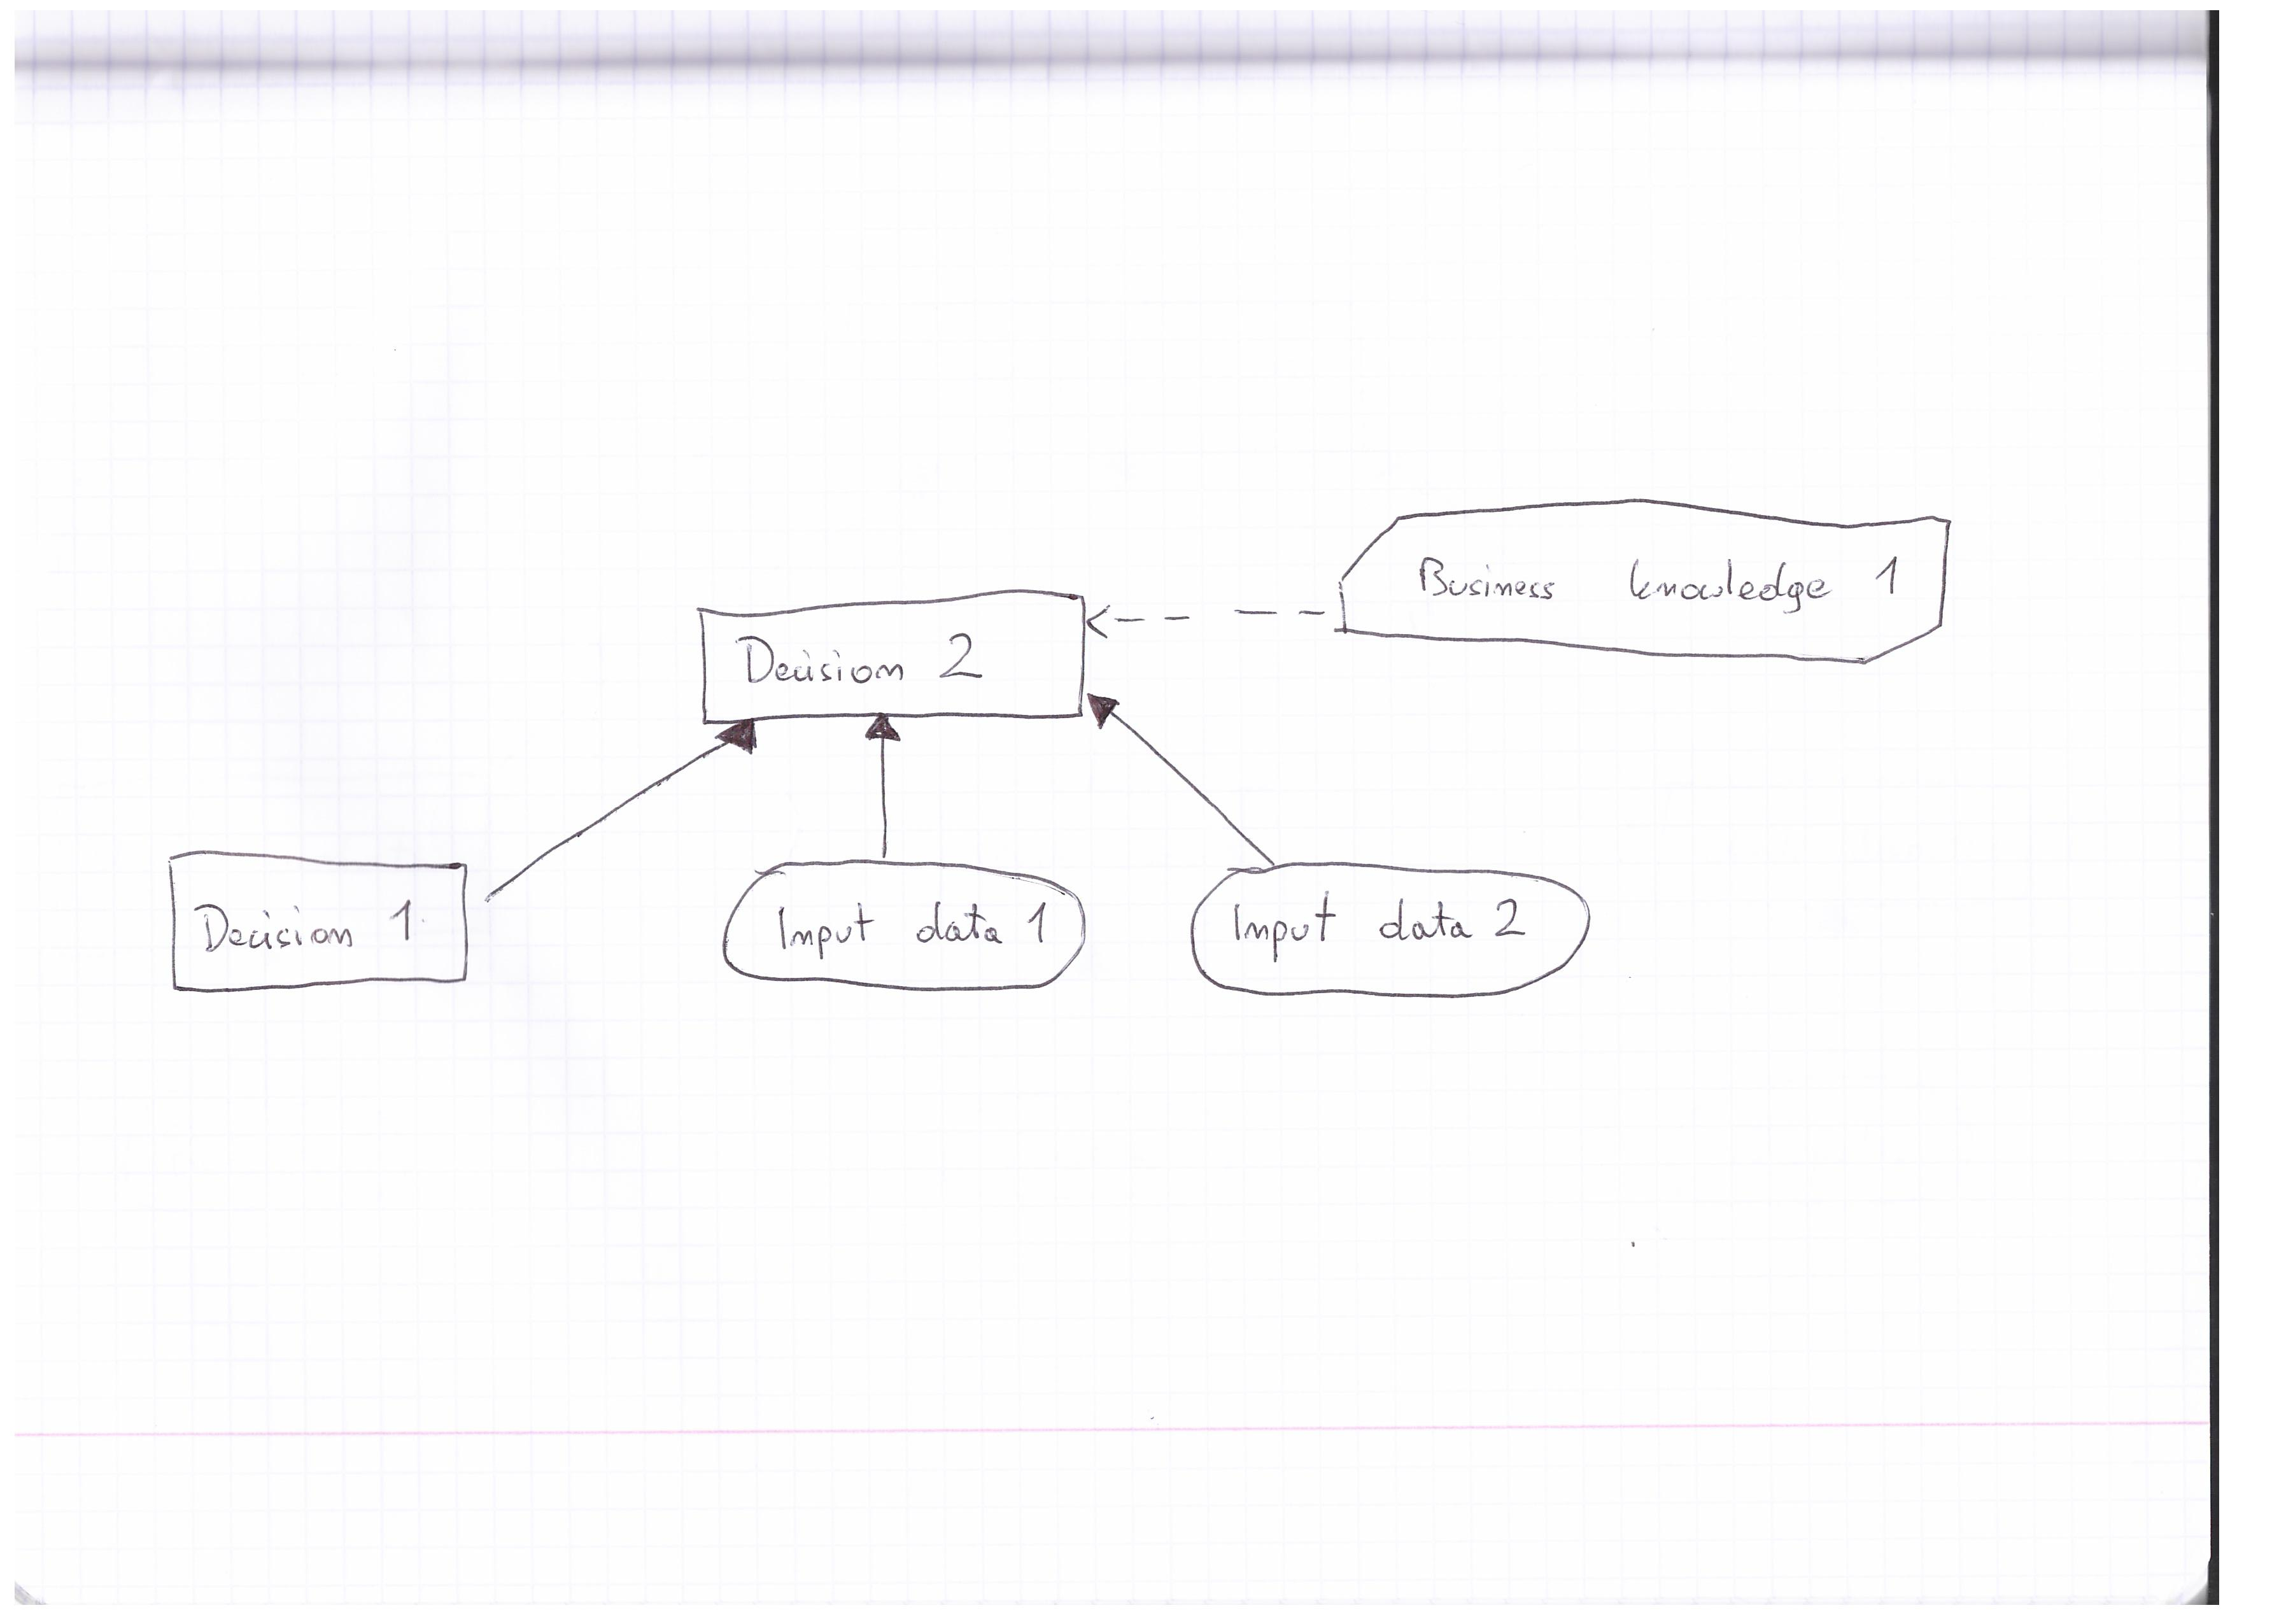arrow_information_requirement: (480, 715, 766, 916), (1086, 682, 1284, 866), (857, 708, 905, 861)
arrow_knowledge_requirement: (1082, 566, 1337, 659)
node_decision: (685, 587, 1089, 726), (156, 838, 480, 1004)
node_input_data: (1183, 856, 1611, 1019), (703, 851, 1107, 1004)
node_knowledge_model: (1330, 492, 1966, 670)
text: (1409, 543, 1907, 620), (1226, 886, 1539, 968), (763, 893, 1061, 970), (724, 622, 1010, 694), (183, 882, 431, 965)
